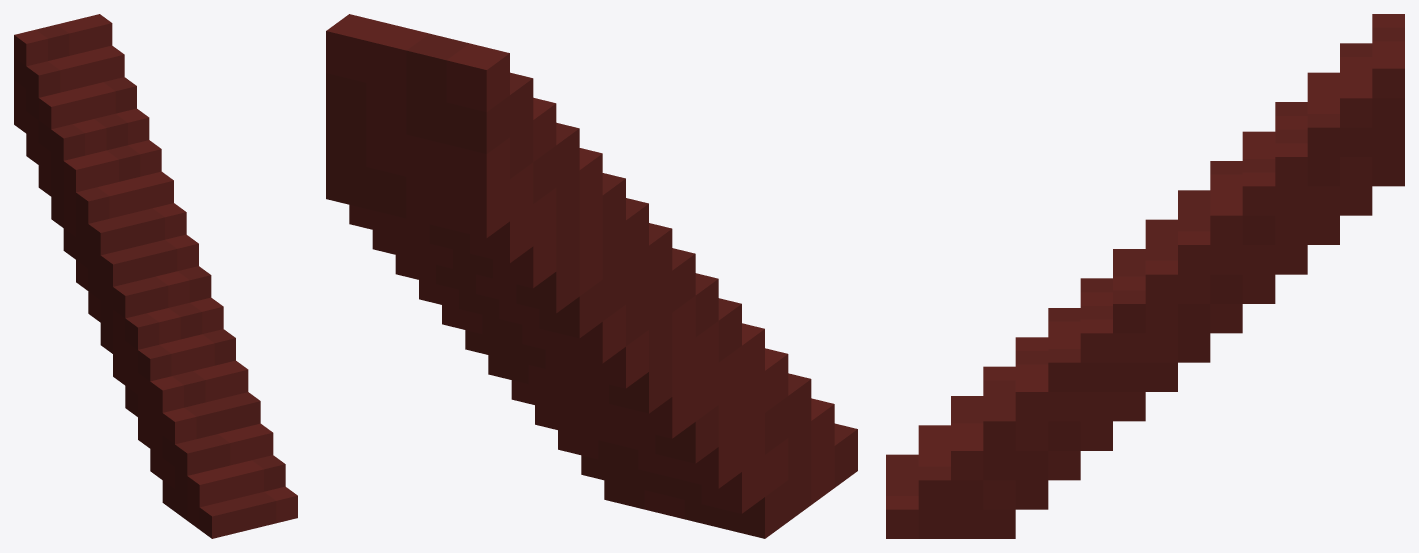
The model's file is tavern-29-roof_redmiddle4px.obj.
The picture shows the model from 3 angles, left to right: view 1: azimuth 30°, elevation 25°; view 2: azimuth 150°, elevation 25°; view 3: azimuth 270°, elevation 25°; orthographic projection. The views are drawn at different scales.
Visible parts, largest first — view 1: roof_redmiddle4px; view 2: roof_redmiddle4px; view 3: roof_redmiddle4px.
Part boxes in pixels (x1=…): roof_redmiddle4px: x1=14, y1=14, x2=297, y2=538; roof_redmiddle4px: x1=326, y1=14, x2=857, y2=538; roof_redmiddle4px: x1=886, y1=14, x2=1404, y2=538.
Size of the model in its own units: 0.4 by 1.6 by 1.6.
1 material, 1 textured.
